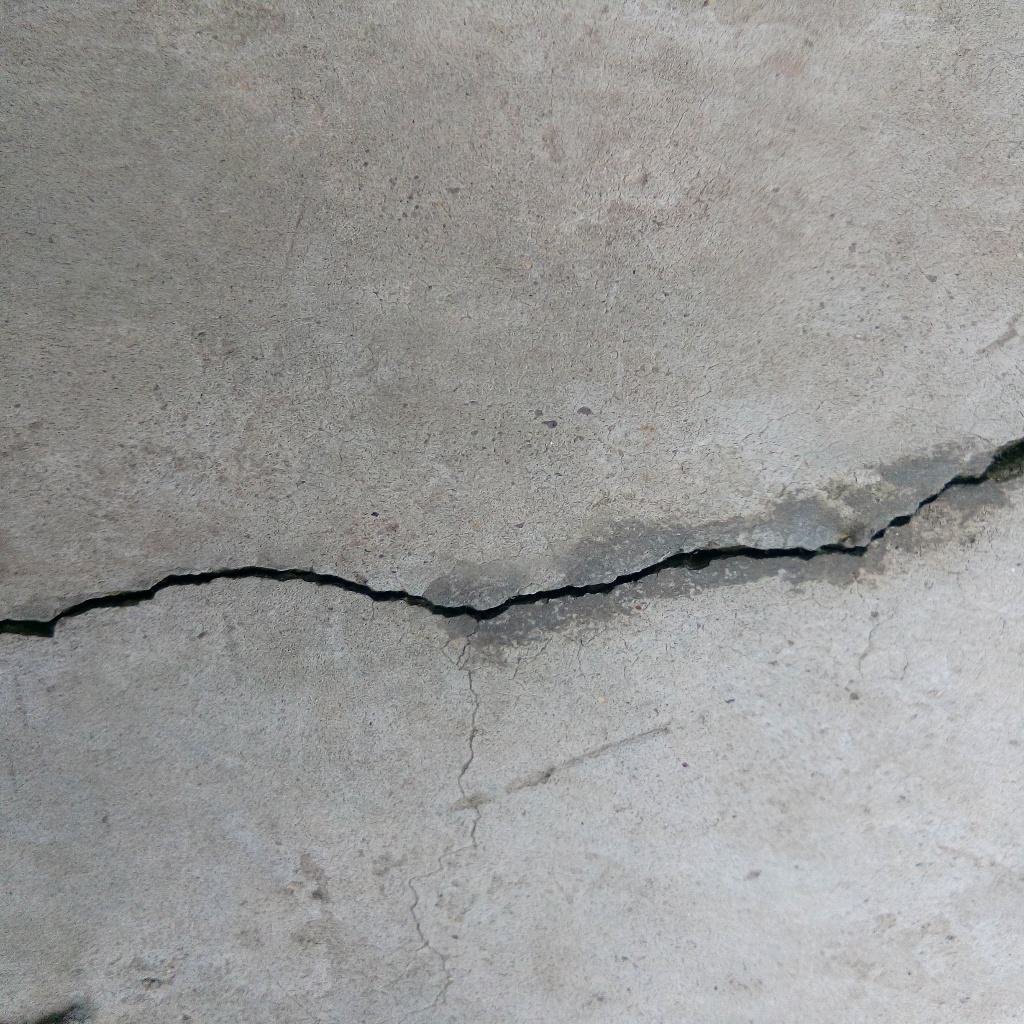Crack: (1, 438, 1024, 638), (406, 622, 481, 1024)
